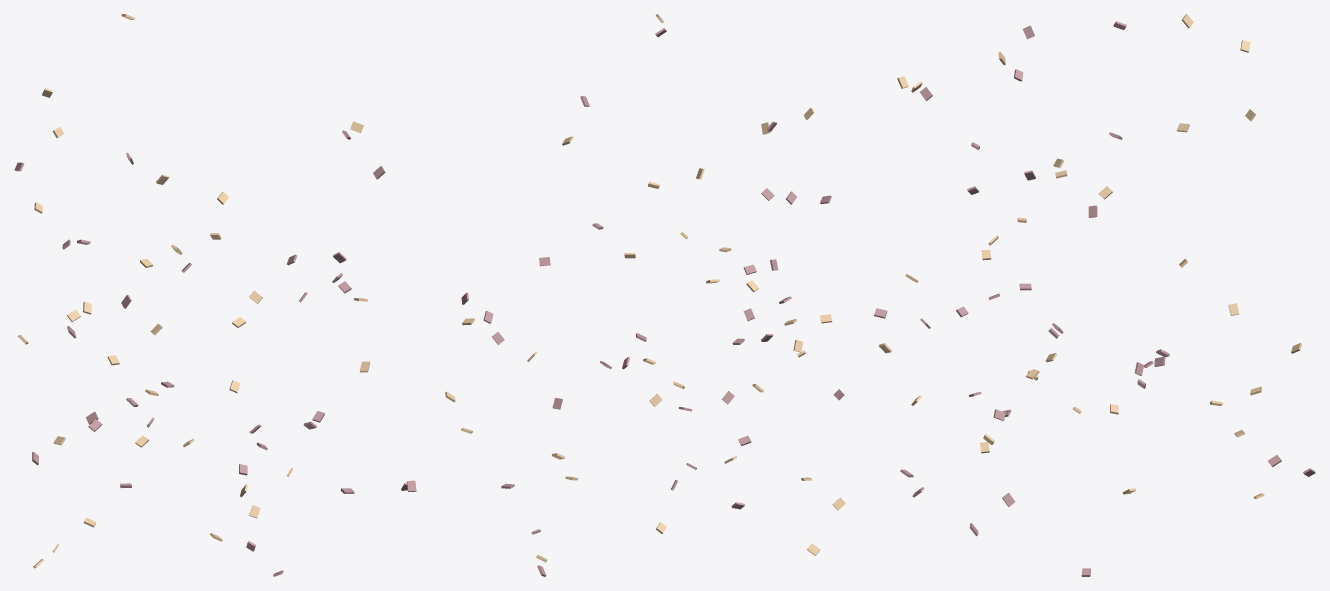
The model's file is leaves.glb.
The picture shows the model from 3 angles, left to right: view 1: azimuth 30°, elevation 25°; view 2: azimuth 150°, elevation 25°; view 3: azimuth 270°, elevation 25°; orthographic projection. The views are drawn at different scales.
Size of the model in its own units: 7.56 by 9.01 by 7.78.
